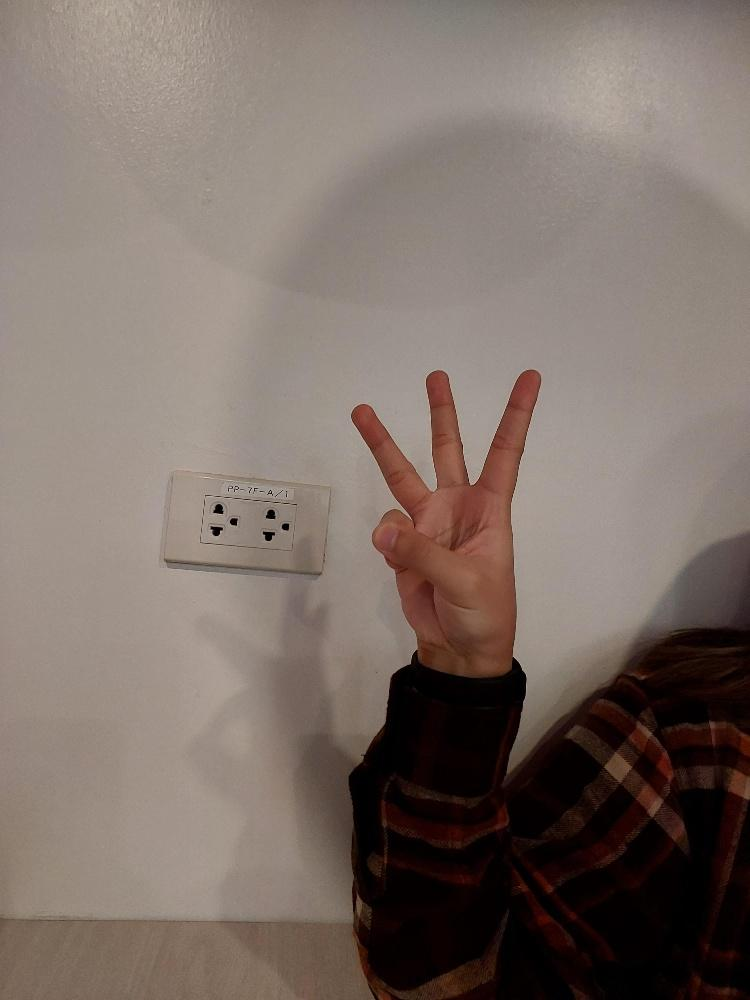w: (348, 361, 544, 659)
